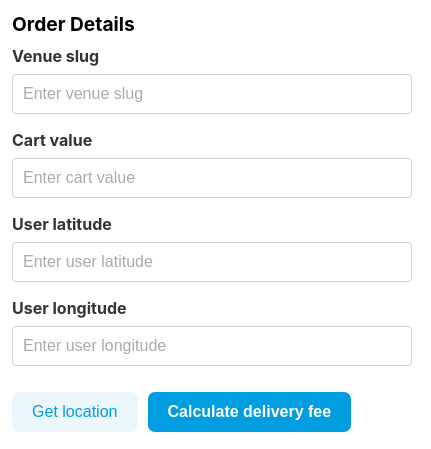
Scenario: OrderDetailsForm › should show validation feedbacks when all fields are missing
Click the button "Calculate delivery fee". click: (249, 412)
box: left=148, top=392, right=351, bottom=432
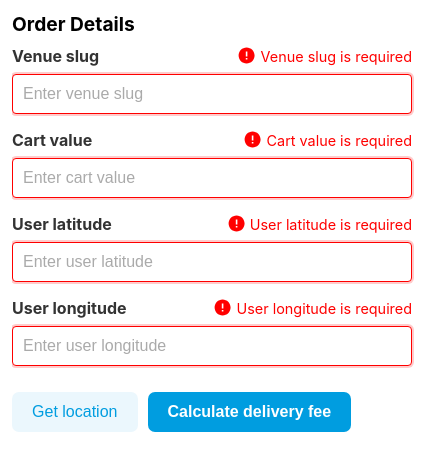
Check: the text "Venue slug is required" is shown, box left=237, top=46, right=412, bottom=66
Check: the text "Cart value is required" is shown, box left=243, top=130, right=412, bottom=150
Check: the text "User latitude is required" is shown, box left=226, top=214, right=412, bottom=234
